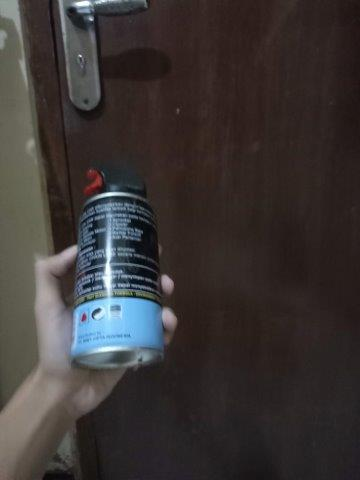kaleng: (68, 192, 164, 368)
